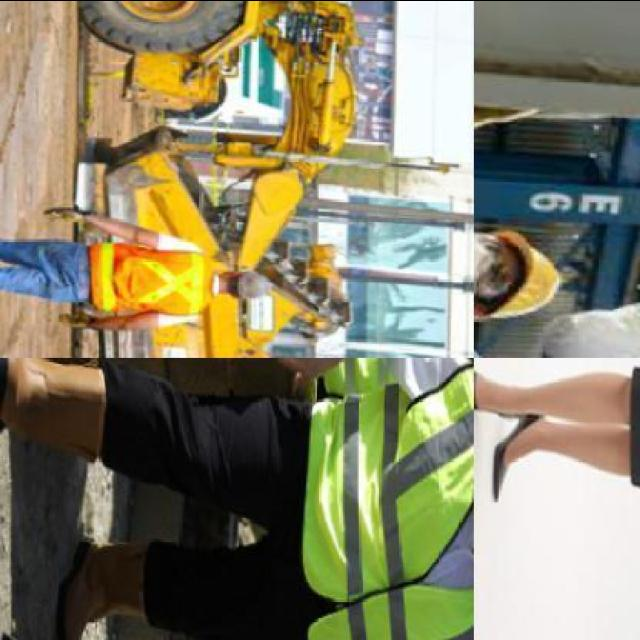helmet: (485, 218, 561, 328), (232, 264, 266, 302)
jacket: (94, 224, 214, 321)
